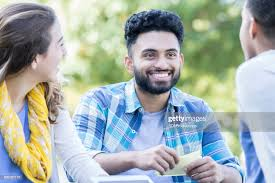Indian_Male: (125, 20, 189, 97)
